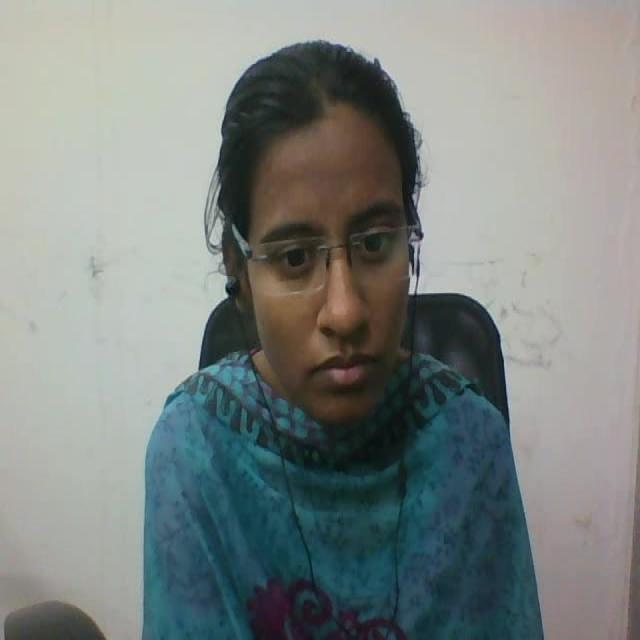Engaged: (206, 4, 446, 467)
